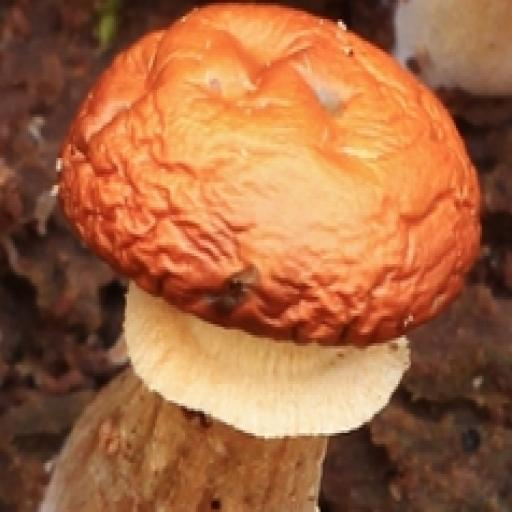Funeral Bell: (55, 2, 491, 438)
